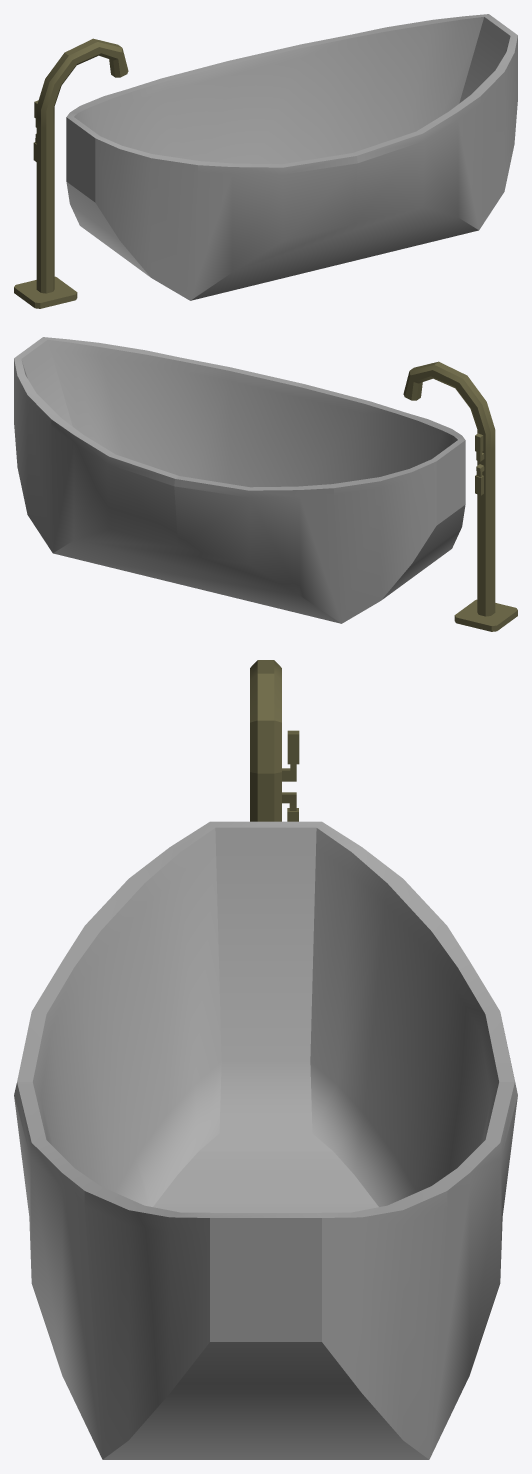
File: bathtub_untextured.fbx
3 views of the same model, one above another, from view 1: azimuth 30°, elevation 25°; view 2: azimuth 150°, elevation 25°; view 3: azimuth 270°, elevation 25° (orthographic). The views are drawn at different scales.
Parts seen in each view (by area): view 1: pCube16, pCube17; view 2: pCube16, pCube17; view 3: pCube16, pCube17.
Part boxes in pixels (box(x1,y1,x2,y2)): pCube16: box(66, 14, 517, 300); pCube17: box(14, 38, 128, 308); pCube16: box(14, 337, 465, 623); pCube17: box(403, 361, 517, 631); pCube16: box(14, 821, 517, 1459); pCube17: box(250, 660, 299, 821).
Bounding box in the file's own units: 1151 × 558 × 545.
